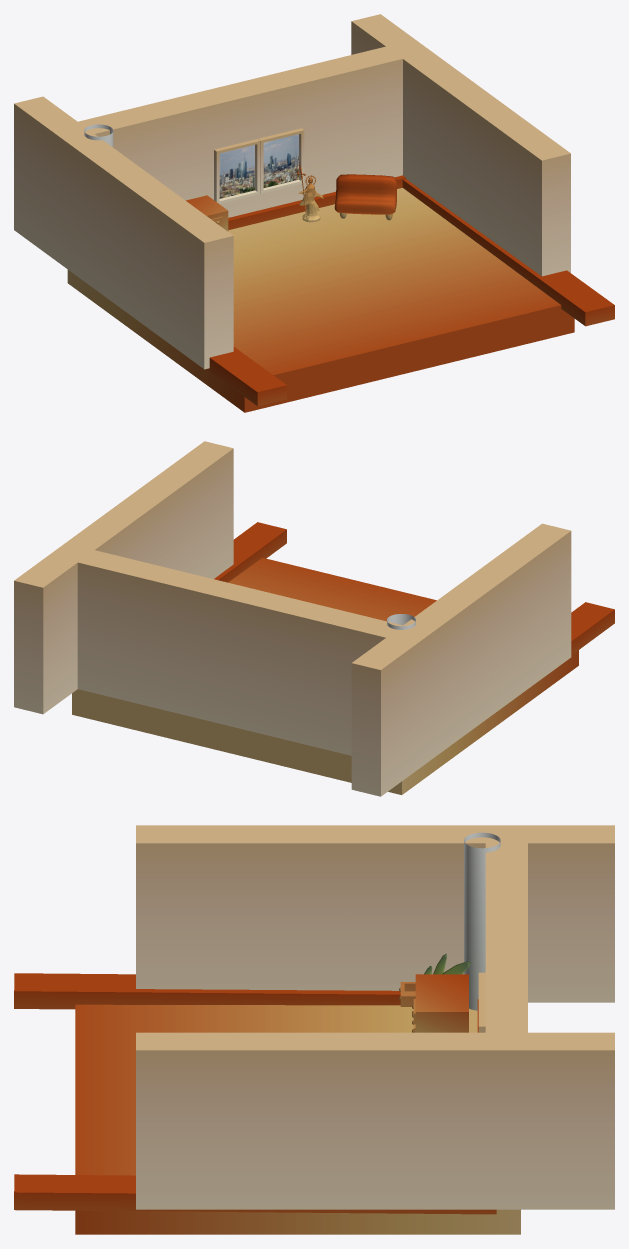
Rendered from FBX_Blockout02.fbx.
The picture shows the model from 3 angles, top to bottom: view 1: azimuth 30°, elevation 25°; view 2: azimuth 150°, elevation 25°; view 3: azimuth 270°, elevation 25°; orthographic projection. The views are drawn at different scales.
Visible parts, largest first — view 1: Floor_geo, Parete02_geo, Parete_geo, PareteFront_geo, Milqno_geo, Divano_geo, Finestra_geo, Cassettone_geo, Madonna_geo; view 2: PareteFront_geo, Parete02_geo, Parete_geo, Floor_geo; view 3: Parete_geo, Parete02_geo, Floor_geo, PareteFront_geo, Cassettone_geo, Colonna00_geo.
Part boxes in pixels (x1=…): Floor_geo: x1=67, y1=188, x2=574, y2=412; Parete02_geo: x1=14, y1=96, x2=287, y2=406; Parete_geo: x1=351, y1=14, x2=614, y2=326; PareteFront_geo: x1=78, y1=46, x2=405, y2=230; Milqno_geo: x1=219, y1=134, x2=298, y2=198; Divano_geo: x1=334, y1=174, x2=396, y2=220; Finestra_geo: x1=214, y1=128, x2=304, y2=203; Cassettone_geo: x1=186, y1=195, x2=228, y2=231; Madonna_geo: x1=297, y1=162, x2=323, y2=222; PareteFront_geo: x1=77, y1=550, x2=402, y2=755; Parete02_geo: x1=351, y1=523, x2=614, y2=796; Parete_geo: x1=14, y1=441, x2=286, y2=714; Floor_geo: x1=72, y1=557, x2=578, y2=794; Parete_geo: x1=14, y1=1032, x2=614, y2=1214; Parete02_geo: x1=14, y1=825, x2=614, y2=1009; Floor_geo: x1=75, y1=1004, x2=520, y2=1234; PareteFront_geo: x1=477, y1=843, x2=527, y2=1032; Cassettone_geo: x1=399, y1=974, x2=468, y2=1032; Colonna00_geo: x1=464, y1=832, x2=500, y2=1010.
Bounding box in the file's own units: 1436 × 599 × 1621.
Materials: 4 (4 with a texture image).
